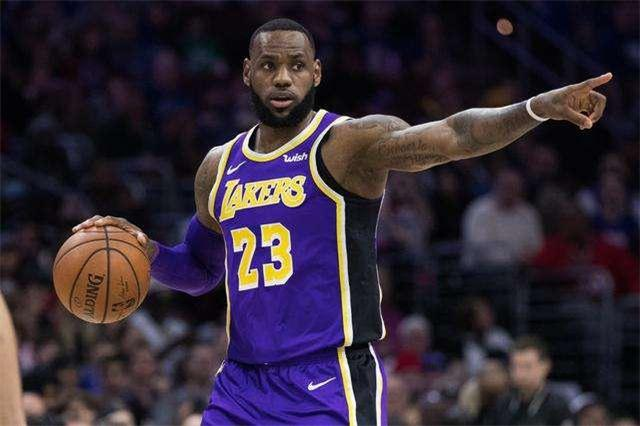no-phone: (539, 68, 617, 131)
